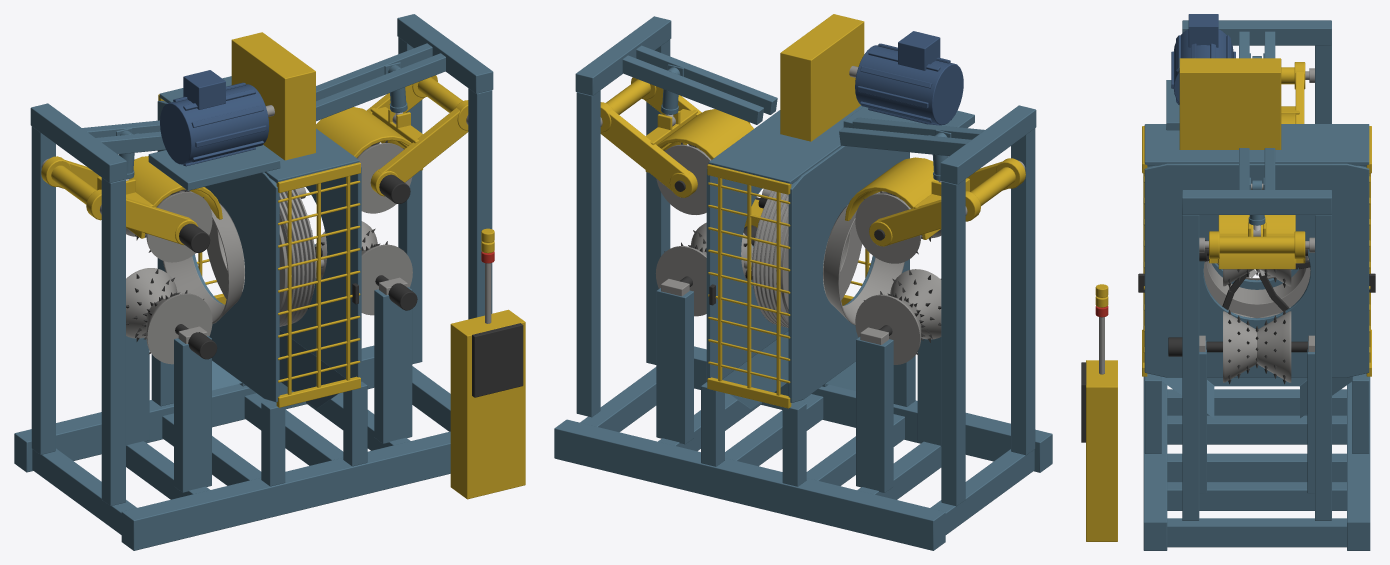
Rendered from debarker_machine.glb.
3 renders of one model, left to right at view 1: azimuth 30°, elevation 25°; view 2: azimuth 150°, elevation 25°; view 3: azimuth 270°, elevation 25°, orthographic. The views are drawn at different scales.
Parts seen in each view (by area): view 1: DB_MachineBody, DB_OutTopArmMesh, DB_InTopArmMesh, DB_InBottomRollMesh, DB_RotorMesh, DB_OutBottomRollMesh, DB_InTopRollMesh, DB_OutTopRollMesh; view 2: DB_MachineBody, DB_OutTopArmMesh, DB_InTopArmMesh, DB_InBottomRollMesh, DB_RotorMesh, DB_OutBottomRollMesh, DB_InTopRollMesh, DB_OutTopRollMesh; view 3: DB_MachineBody, DB_OutTopArmMesh, DB_OutBottomRollMesh, DB_RotorMesh, DB_InTopArmMesh, DB_OutTopRollMesh.
Boxes of the visible parts, bbox=[...] form: DB_MachineBody: bbox=[14, 14, 525, 550]; DB_OutTopArmMesh: bbox=[316, 75, 468, 203]; DB_InTopArmMesh: bbox=[41, 156, 222, 252]; DB_InBottomRollMesh: bbox=[126, 268, 212, 364]; DB_RotorMesh: bbox=[207, 183, 316, 326]; DB_OutBottomRollMesh: bbox=[315, 221, 412, 315]; DB_InTopRollMesh: bbox=[126, 189, 212, 262]; DB_OutTopRollMesh: bbox=[357, 140, 412, 213]; DB_MachineBody: bbox=[554, 14, 1052, 550]; DB_OutTopArmMesh: bbox=[600, 77, 753, 197]; DB_InTopArmMesh: bbox=[845, 157, 1025, 246]; DB_InBottomRollMesh: bbox=[855, 269, 941, 364]; DB_RotorMesh: bbox=[752, 184, 861, 327]; DB_OutBottomRollMesh: bbox=[655, 222, 753, 316]; DB_InTopRollMesh: bbox=[855, 191, 941, 263]; DB_OutTopRollMesh: bbox=[656, 142, 711, 214]; DB_MachineBody: bbox=[1081, 14, 1375, 550]; DB_OutTopArmMesh: bbox=[1199, 215, 1305, 269]; DB_OutBottomRollMesh: bbox=[1206, 310, 1307, 384]; DB_RotorMesh: bbox=[1203, 256, 1310, 318]; DB_InTopArmMesh: bbox=[1281, 62, 1305, 123]; DB_OutTopRollMesh: bbox=[1207, 249, 1307, 287].
Size of the model in its own units: 4.01 by 4.15 by 2.75.
